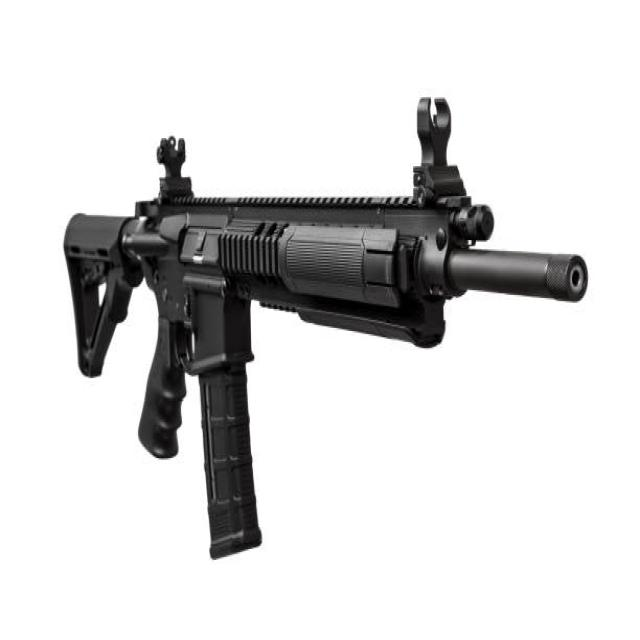rifle: (53, 78, 596, 576)
